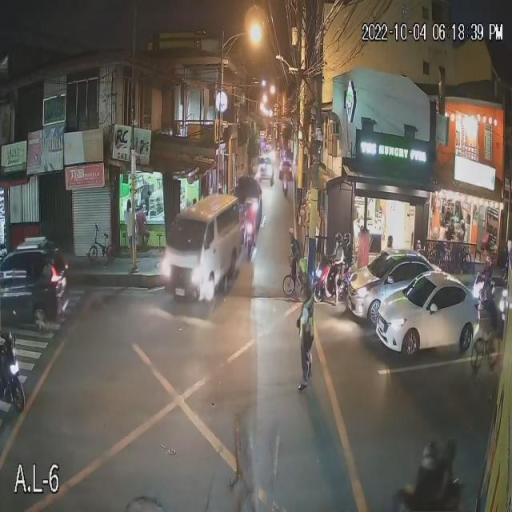helmet: (428, 444, 448, 466), (343, 232, 354, 245), (484, 256, 494, 269), (335, 232, 344, 246)
motorcycle: (0, 330, 25, 412), (311, 256, 349, 308), (473, 280, 500, 338), (278, 166, 294, 196)
rider: (406, 440, 462, 512), (472, 254, 494, 304), (332, 245, 342, 307), (340, 244, 354, 283), (278, 152, 293, 183)
